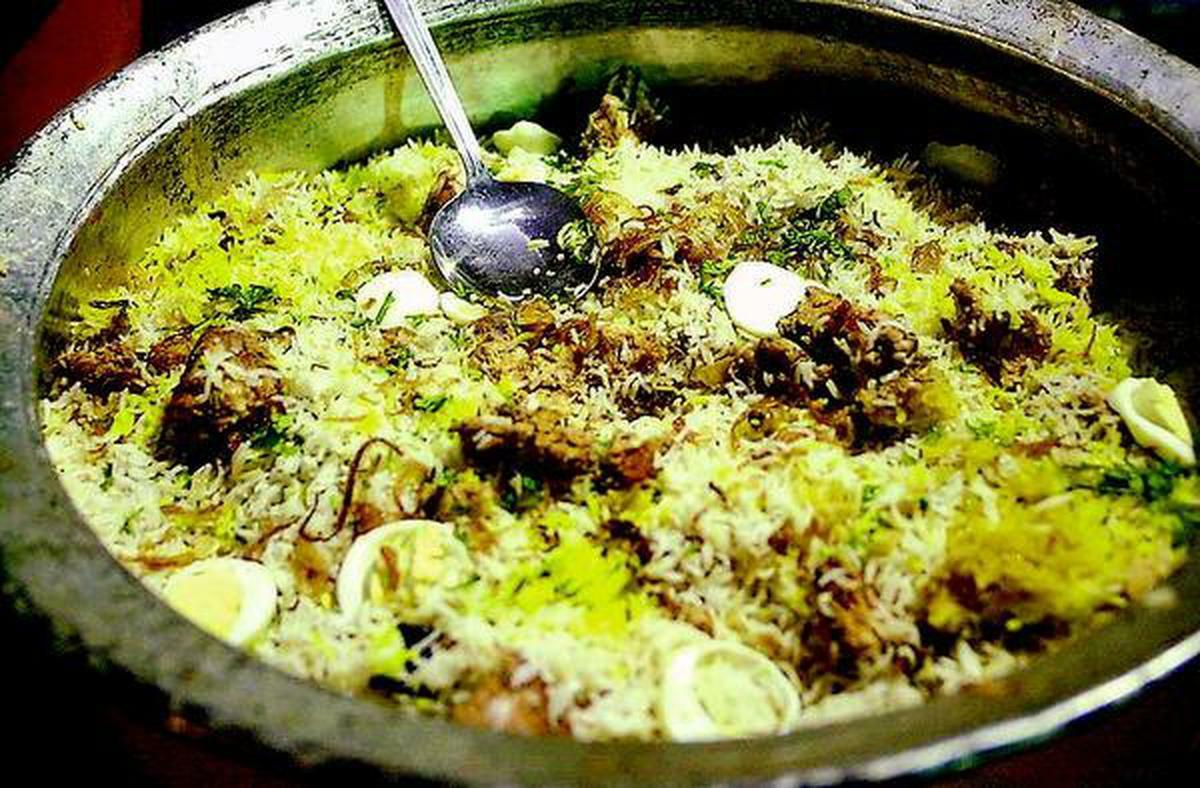Biryani: (44, 85, 1195, 731)
